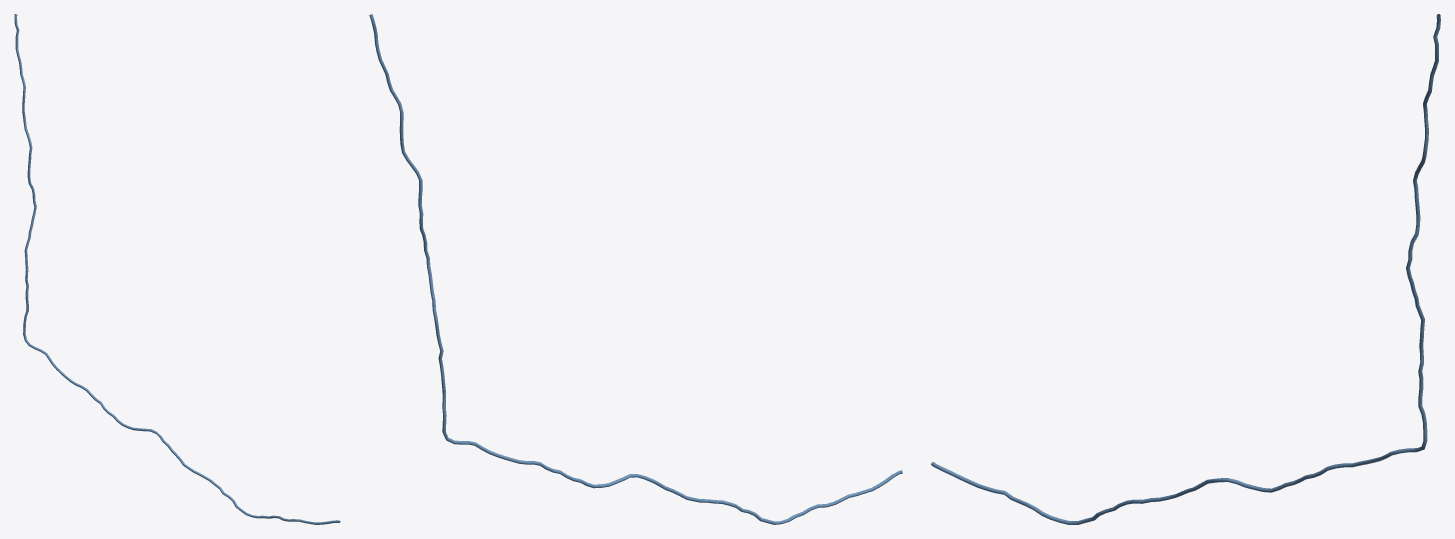
The model's file is sweep172.fbx.
The picture shows the model from 3 angles, left to right: view 1: azimuth 90°, elevation 25°; view 2: azimuth 150°, elevation 25°; view 3: azimuth 270°, elevation 25°; orthographic projection. The views are drawn at different scales.
Visible parts, largest first — view 1: sweep172; view 2: sweep172; view 3: sweep172.
Boxes of the visible parts, box(x1,y1,x2,y2) form: sweep172: box(14, 14, 340, 524); sweep172: box(369, 14, 902, 524); sweep172: box(931, 14, 1440, 524).
Bounding box in the file's own units: 1.99 × 3.45 × 2.46.
